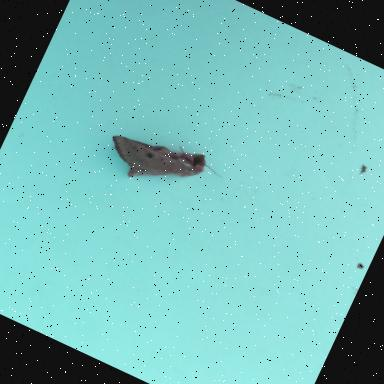abw: (94, 112, 236, 220)
